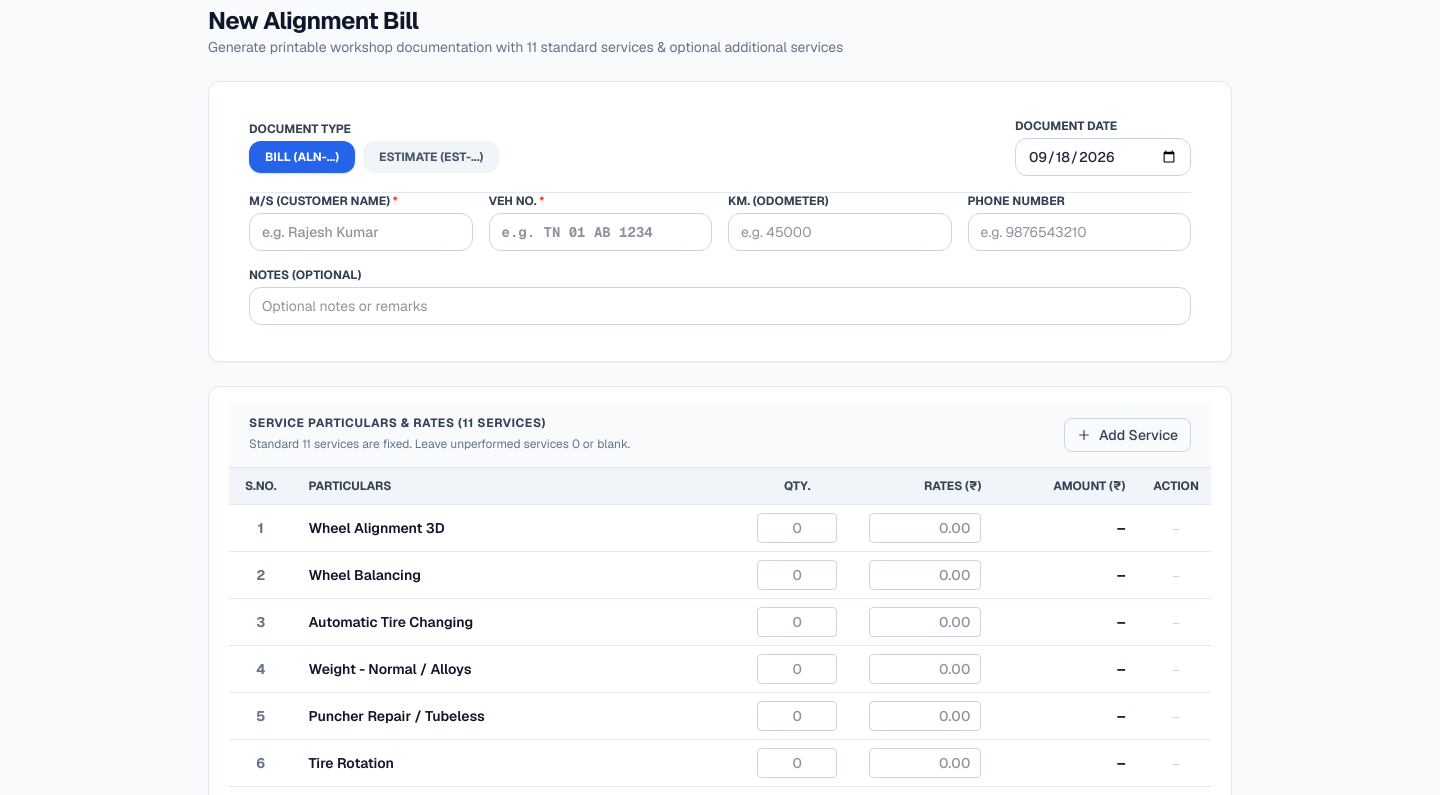
Scenario: NewAlignmentBillPage UI Component UX Tests › displays estimate notice when switched to ESTIMATE document type
Click the button "ESTIMATE (EST-...)" at (431, 157), box x1=363 y1=141 x2=499 y2=173
(page scrolled)
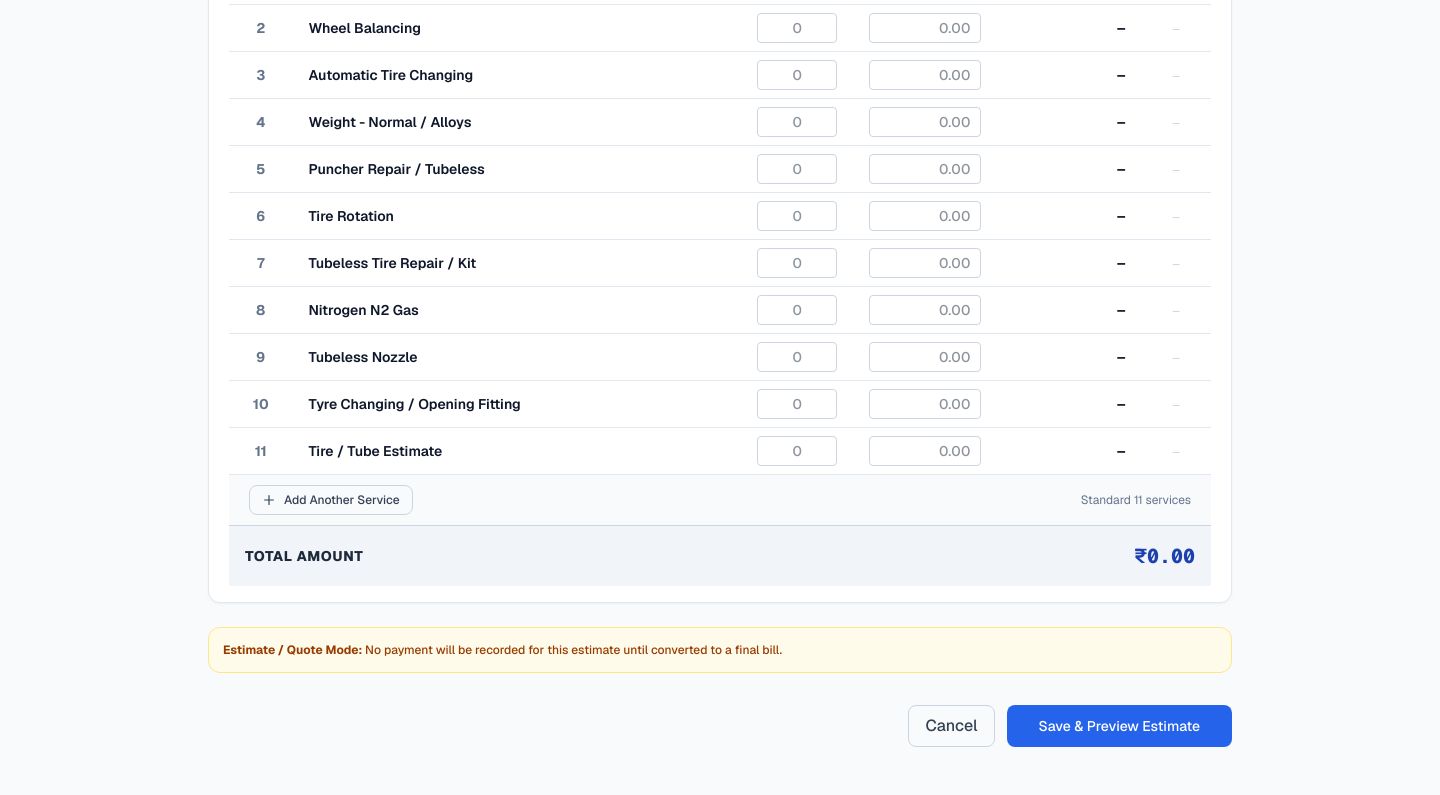
Expected: the text "Estimate / Quote Mode:" is shown, x1=223 y1=642 x2=362 y2=658
